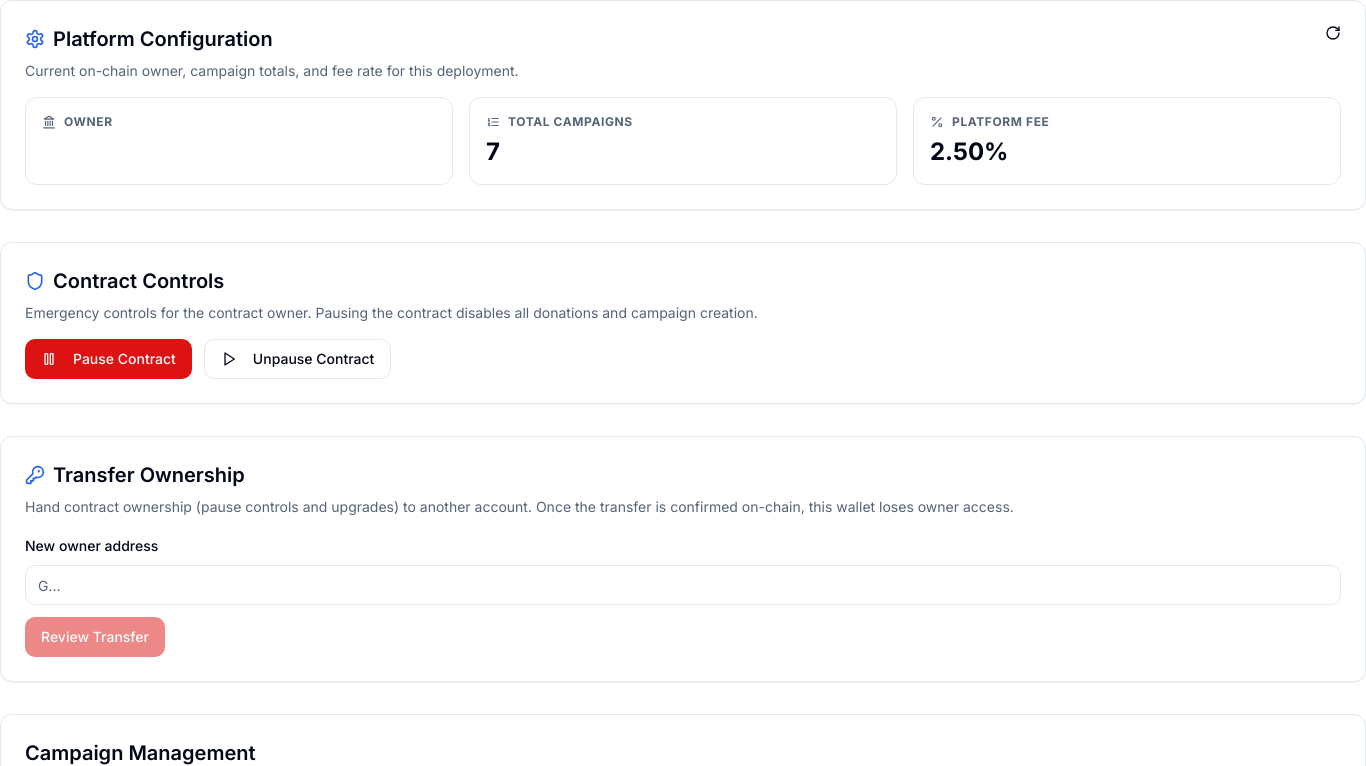
Test: AdminPanel – ownership transfer › rejects a malformed address before signing
In the field labelled "New owner address": (683, 585) [25,565,1341,605], type "not-an-address"
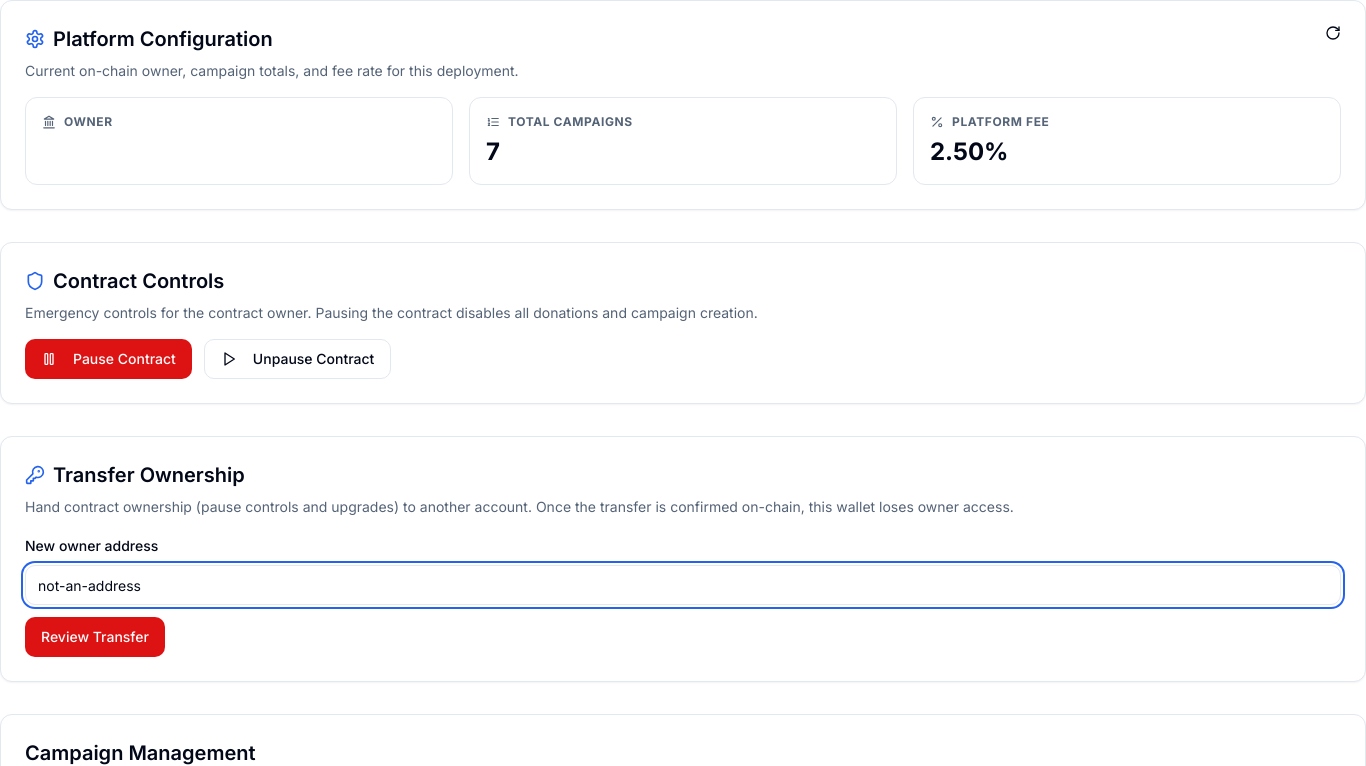
Click the button "Review Transfer": (95, 637) [25,617,165,657]
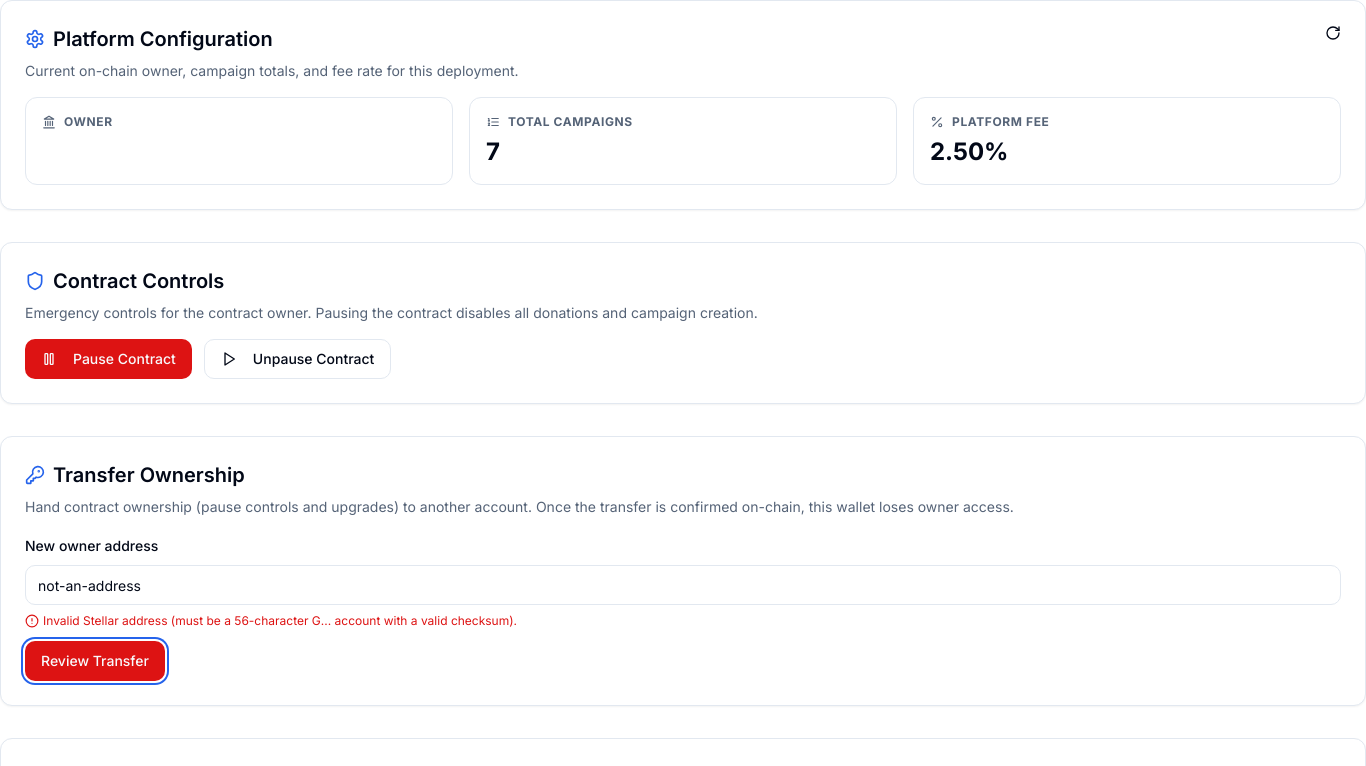
Expected: the text "Invalid Stellar address" is shown, [43,613,517,628]
